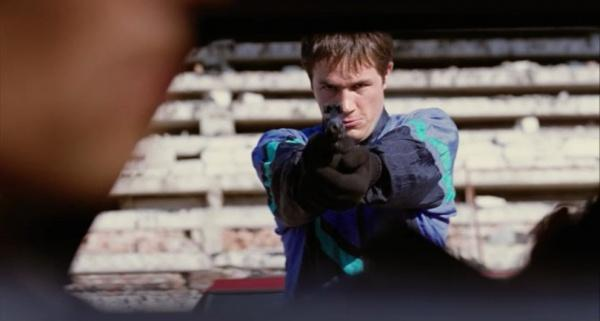Gun: (324, 104, 345, 142)
